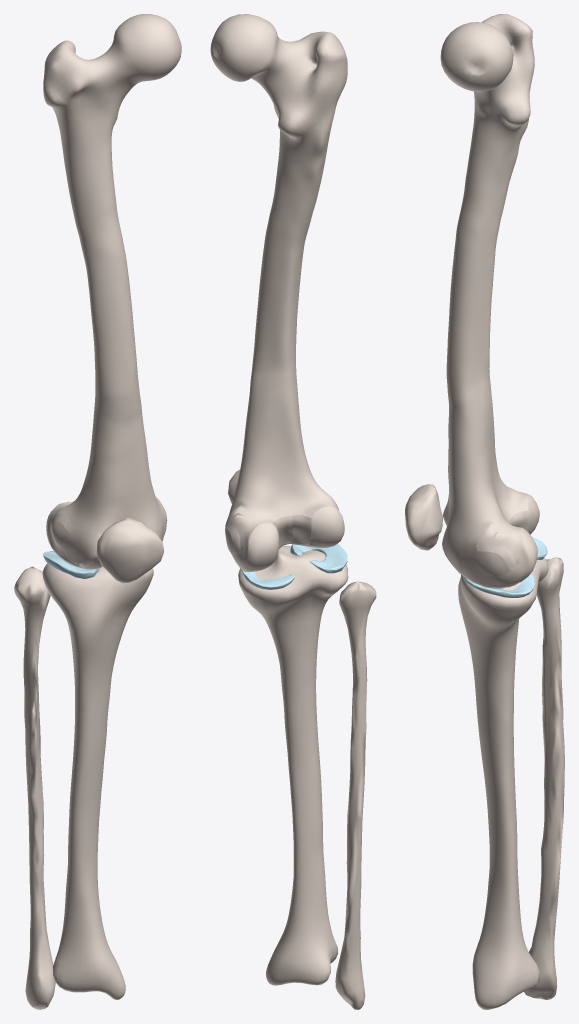
Rendered from vh_f_knee_r-80.glb.
3 views of the same model, side by side, from view 1: azimuth 30°, elevation 25°; view 2: azimuth 210°, elevation 25°; view 3: azimuth 270°, elevation 25° (orthographic). The views are drawn at different scales.
Visible parts, largest first — view 1: VH_F_femur_R, VH_F_tibia_R, VH_F_fibula_R, VH_F_patella_R, VH_F_meniscus_R; view 2: VH_F_femur_R, VH_F_tibia_R, VH_F_fibula_R, VH_F_meniscus_R, VH_F_medial_condyle_of_right_femur_inf, VH_F_lateral_condyle_of_femur_inf_R, VH_F_anterior_cruciate_enthesis_R, VH_F_posterior_cruciate_enthesis_R; view 3: VH_F_femur_R, VH_F_tibia_R, VH_F_fibula_R, VH_F_patella_R, VH_F_meniscus_R, VH_F_medial_perichondular_surface_R, VH_F_medial_condyle_of_right_femur_inf, VH_F_articular_cartilage_of_knee_R, VH_F_medial_epicondylar_enthesis_R.
Part boxes in pixels (x1,y1,x2,y2): VH_F_femur_R: (43,14,181,562); VH_F_tibia_R: (42,563,153,999); VH_F_fibula_R: (14,566,55,1009); VH_F_patella_R: (96,518,163,583); VH_F_meniscus_R: (43,551,99,579); VH_F_femur_R: (210,14,347,567); VH_F_tibia_R: (238,545,348,985); VH_F_fibula_R: (335,581,376,1009); VH_F_meniscus_R: (241,543,347,589); VH_F_medial_condyle_of_right_femur_inf: (245,524,279,570); VH_F_lateral_condyle_of_femur_inf_R: (310,506,344,547); VH_F_anterior_cruciate_enthesis_R: (292,515,311,544); VH_F_posterior_cruciate_enthesis_R: (275,515,293,547); VH_F_femur_R: (440,14,534,585); VH_F_tibia_R: (458,558,548,1009); VH_F_fibula_R: (524,557,564,999); VH_F_patella_R: (405,484,442,550); VH_F_meniscus_R: (463,537,547,597); VH_F_medial_perichondular_surface_R: (473,551,509,576); VH_F_medial_condyle_of_right_femur_inf: (519,528,537,581); VH_F_articular_cartilage_of_knee_R: (442,493,529,587); VH_F_medial_epicondylar_enthesis_R: (476,542,516,569).
Bounding box in the file's own units: 0.1016 × 0.7718 × 0.1105.
